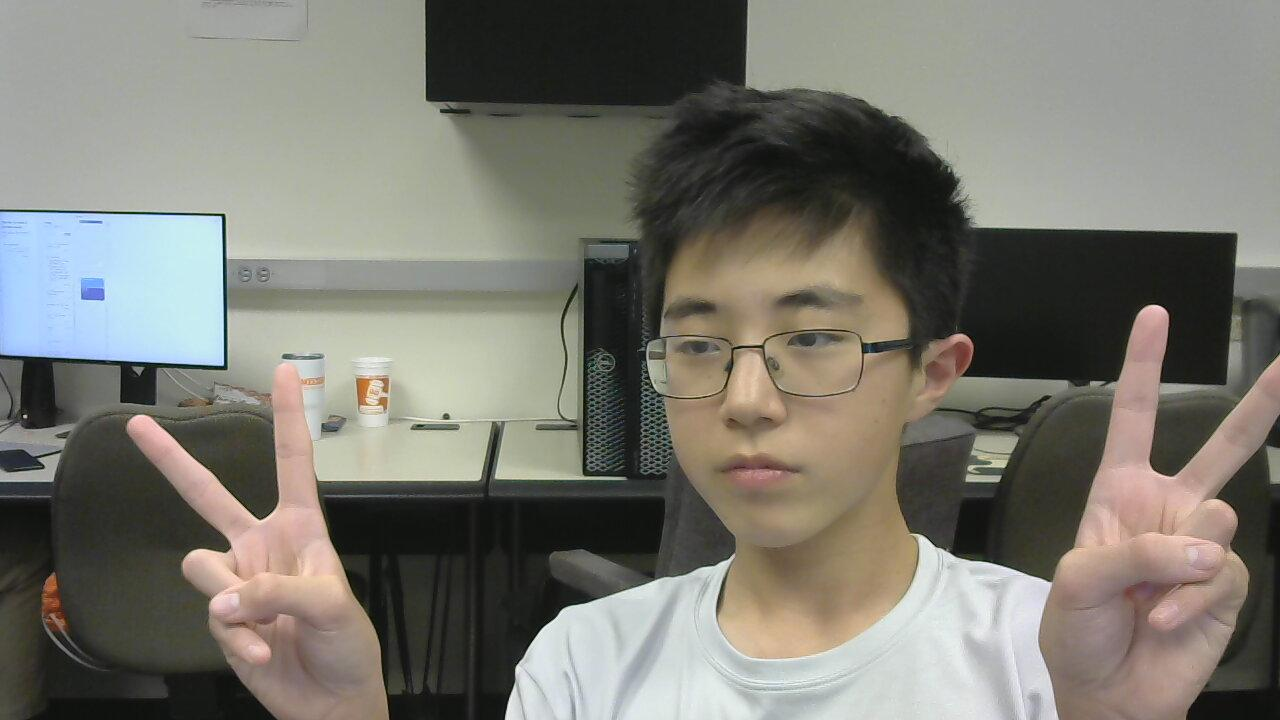peace: (1005, 281, 1280, 719), (106, 359, 404, 720)
